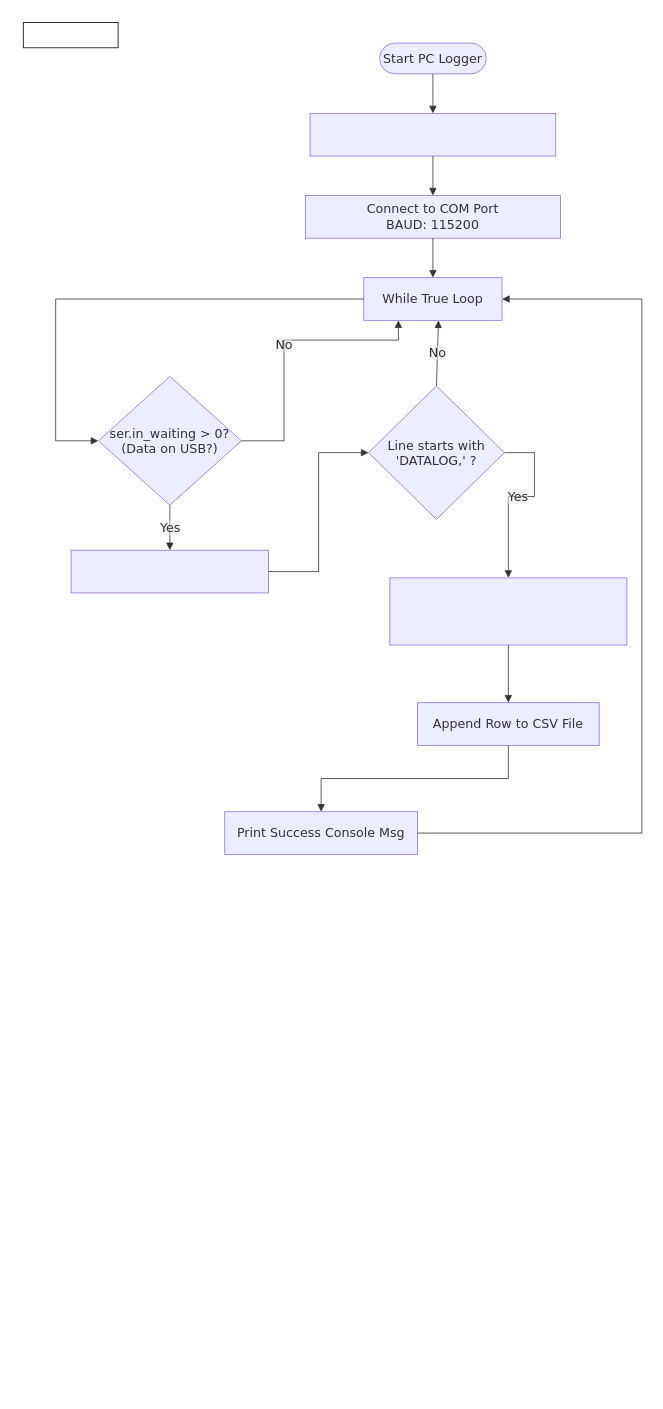
This 663x1409 diagram has some shape labels left out. The shapes that lost their labels are listed below. From the top down, each one's centre as x and y in pixels, then its label:
the point at 70,35: logger.py
the point at 432,134: Initialize CSV: medication_log.csv
the point at 169,571: Read Line & Decode UTF-8
the point at 508,611: Parse Row: Date, Box ID, Sched, Actual, Before, After, Taken, Delay
